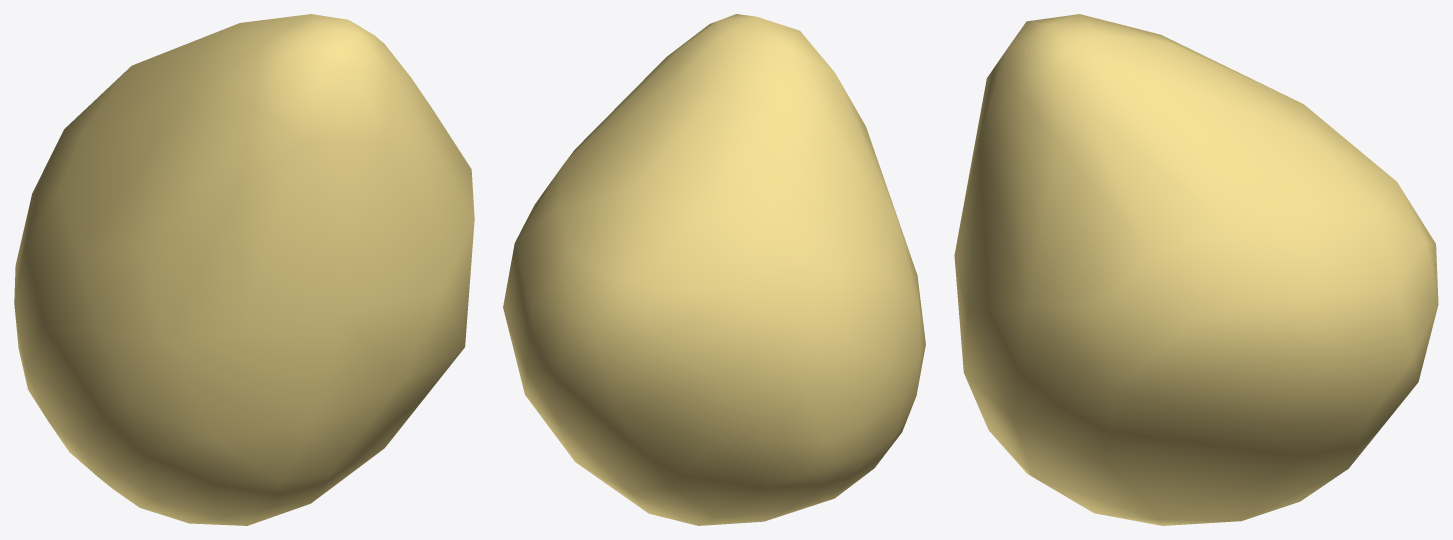
File: fma273252_mm2715m.glb
3 renders of one model, left to right at view 1: azimuth 30°, elevation 25°; view 2: azimuth 150°, elevation 25°; view 3: azimuth 270°, elevation 25°, orthographic. The views are drawn at different scales.
Visible parts, largest first — view 1: FMA273252_MM2715M; view 2: FMA273252_MM2715M; view 3: FMA273252_MM2715M.
Boxes of the visible parts, bbox=[...] form: FMA273252_MM2715M: bbox=[14, 14, 474, 525]; FMA273252_MM2715M: bbox=[503, 14, 925, 525]; FMA273252_MM2715M: bbox=[954, 14, 1438, 525].
Bounding box in the file's own units: 0.00577 × 0.00702 × 0.00605.
